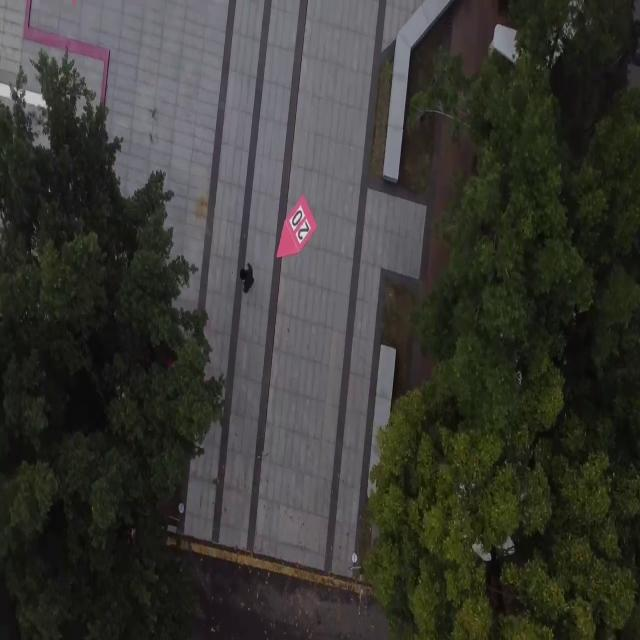-sign-: (21, 3, 111, 112), (275, 194, 317, 258)
